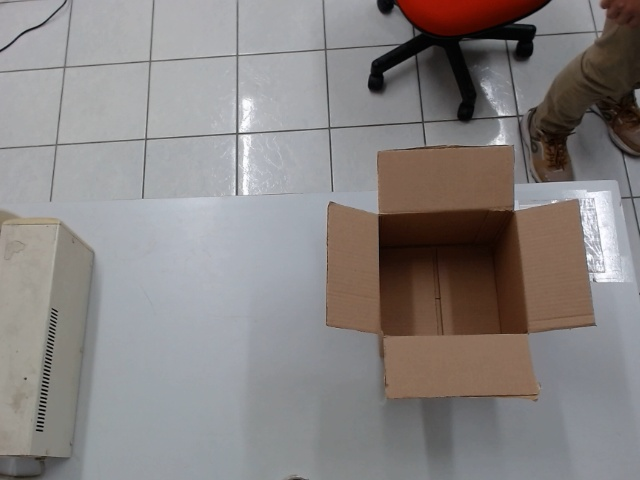caixa_principal: (368, 198, 545, 347)
